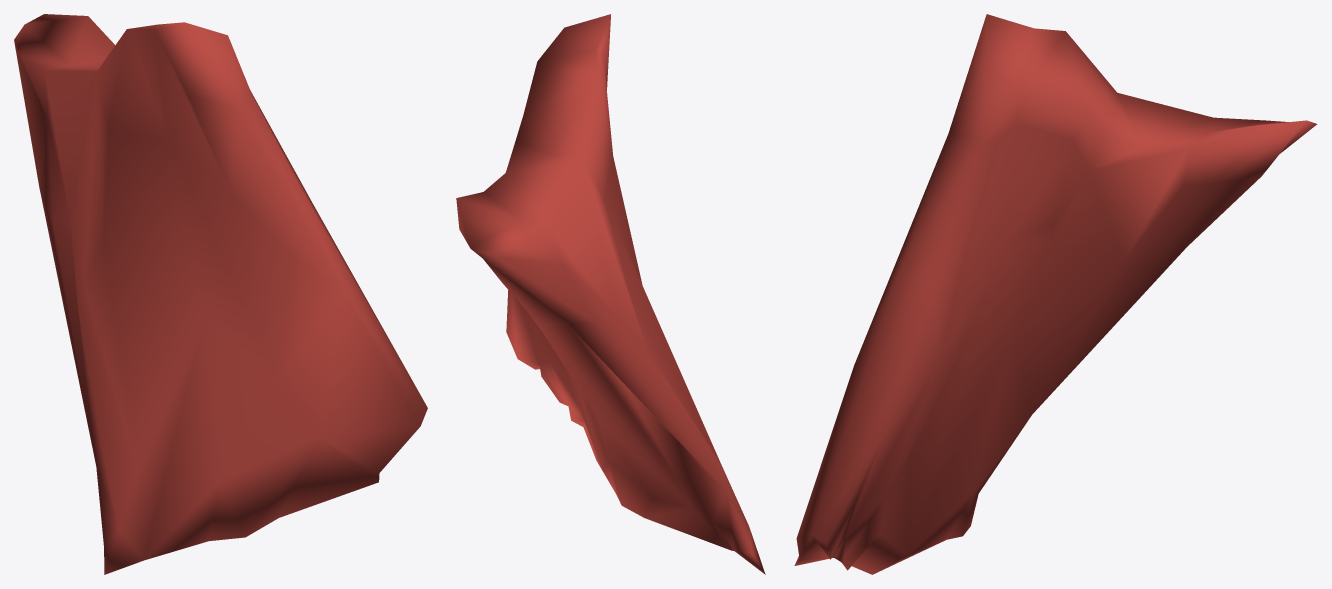
Rendered from musculos-rectus-lateralis-capitis-muscle-r.glb.
The picture shows the model from 3 angles, left to right: view 1: azimuth 30°, elevation 25°; view 2: azimuth 150°, elevation 25°; view 3: azimuth 270°, elevation 25°; orthographic projection. The views are drawn at different scales.
Parts seen in each view (by area): view 1: Rectus lateralis capitis muscle.r; view 2: Rectus lateralis capitis muscle.r; view 3: Rectus lateralis capitis muscle.r.
Boxes of the visible parts, box(x1,y1,x2,y2) form: Rectus lateralis capitis muscle.r: box(14, 14, 427, 574); Rectus lateralis capitis muscle.r: box(456, 14, 765, 574); Rectus lateralis capitis muscle.r: box(794, 14, 1317, 574).
Bounding box in the file's own units: 0.0123 × 0.0213 × 0.0174.
